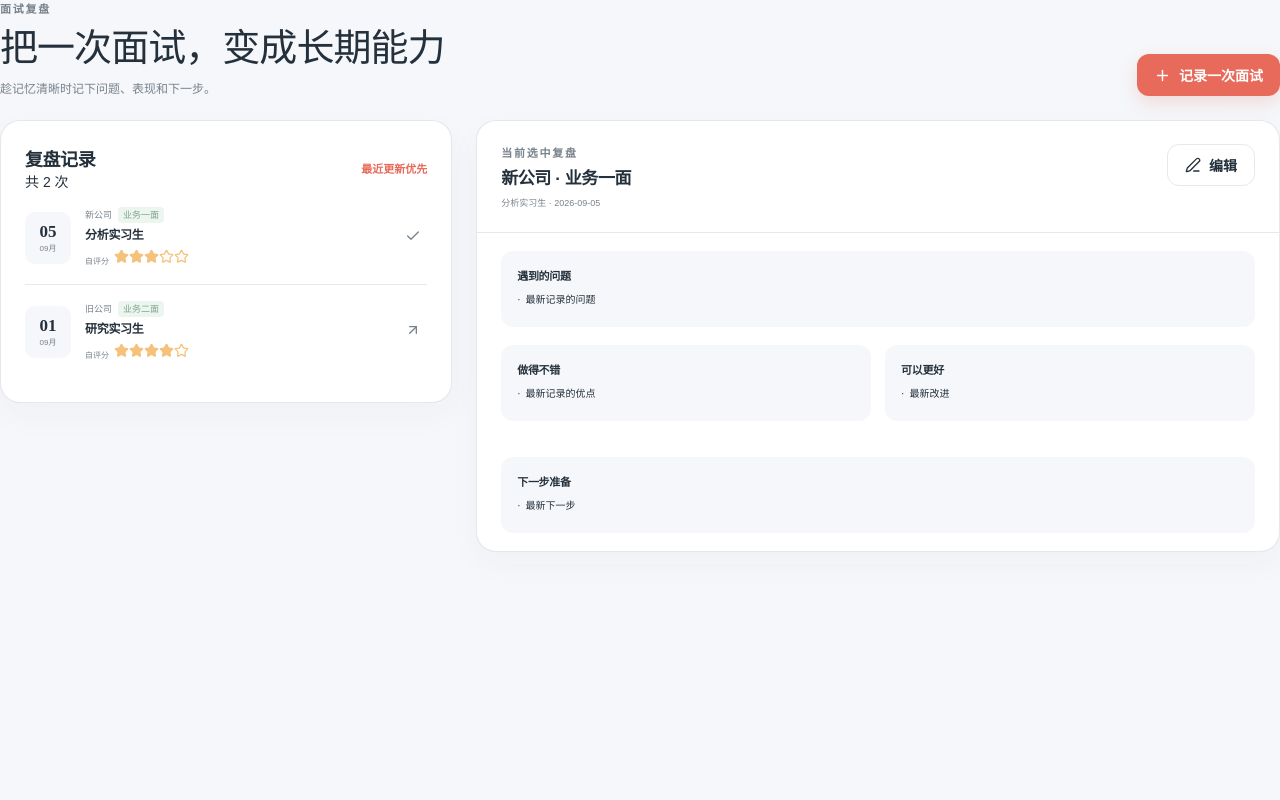
it: select and edit historical interview reviews › saves edits to the selected historical ID and keeps that record selected
Step 1. Click the button named "查看 旧公司" → point(413, 332), box [399,317,427,346]
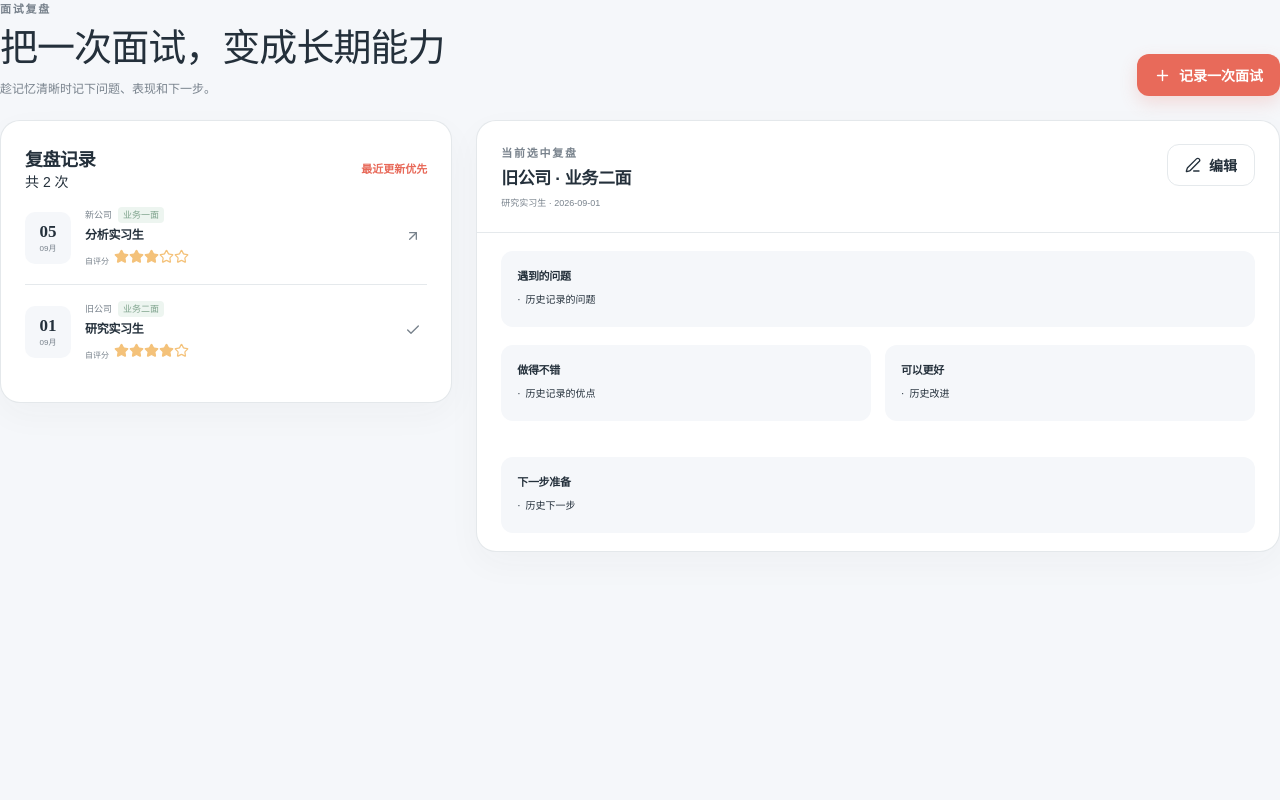
Step 2. Click the button "编辑" → point(1211, 165), box [1167,144,1255,186]
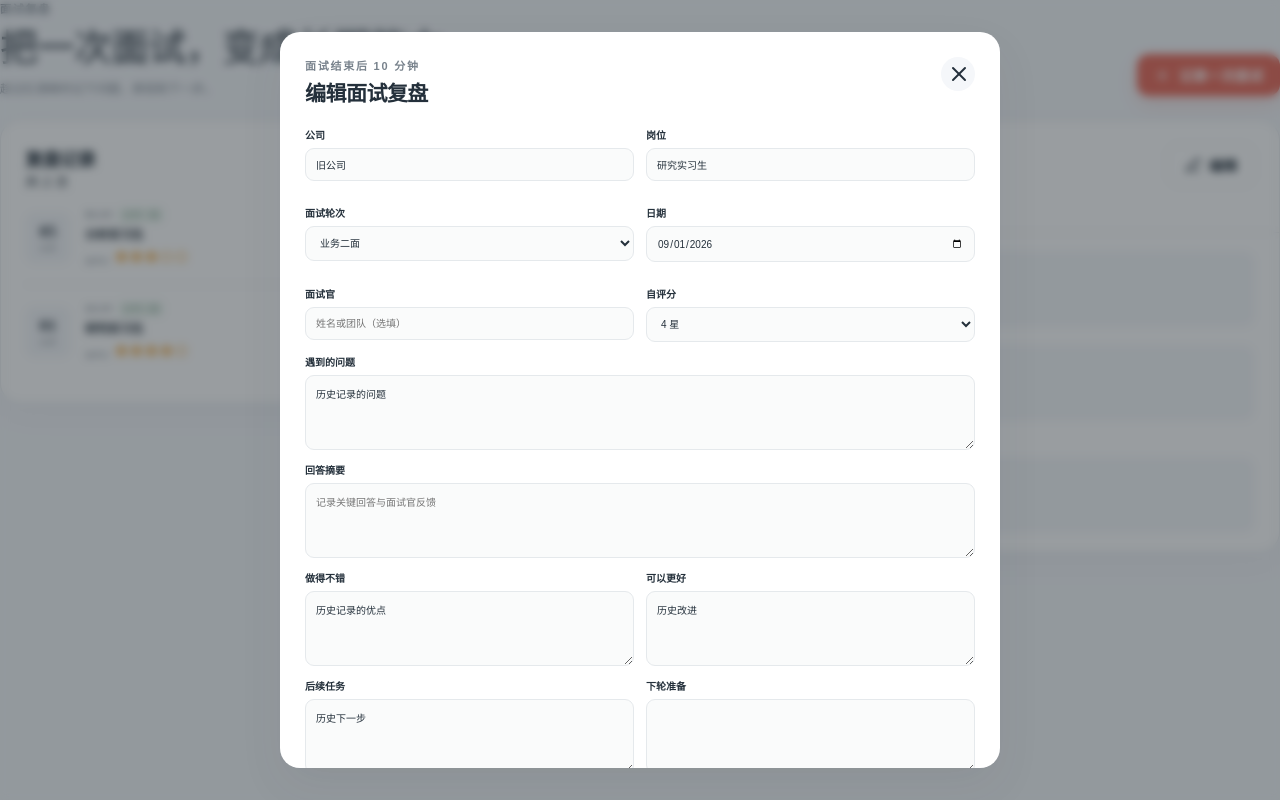
expect the field labelled "公司" holds "旧公司": met, box [305,148,634,181]
Step 3. Replace the text in the text box labelled "遇到的问题" with "补充历史面试问题" → point(640, 412), box [305,375,975,450]
(page scrolled)
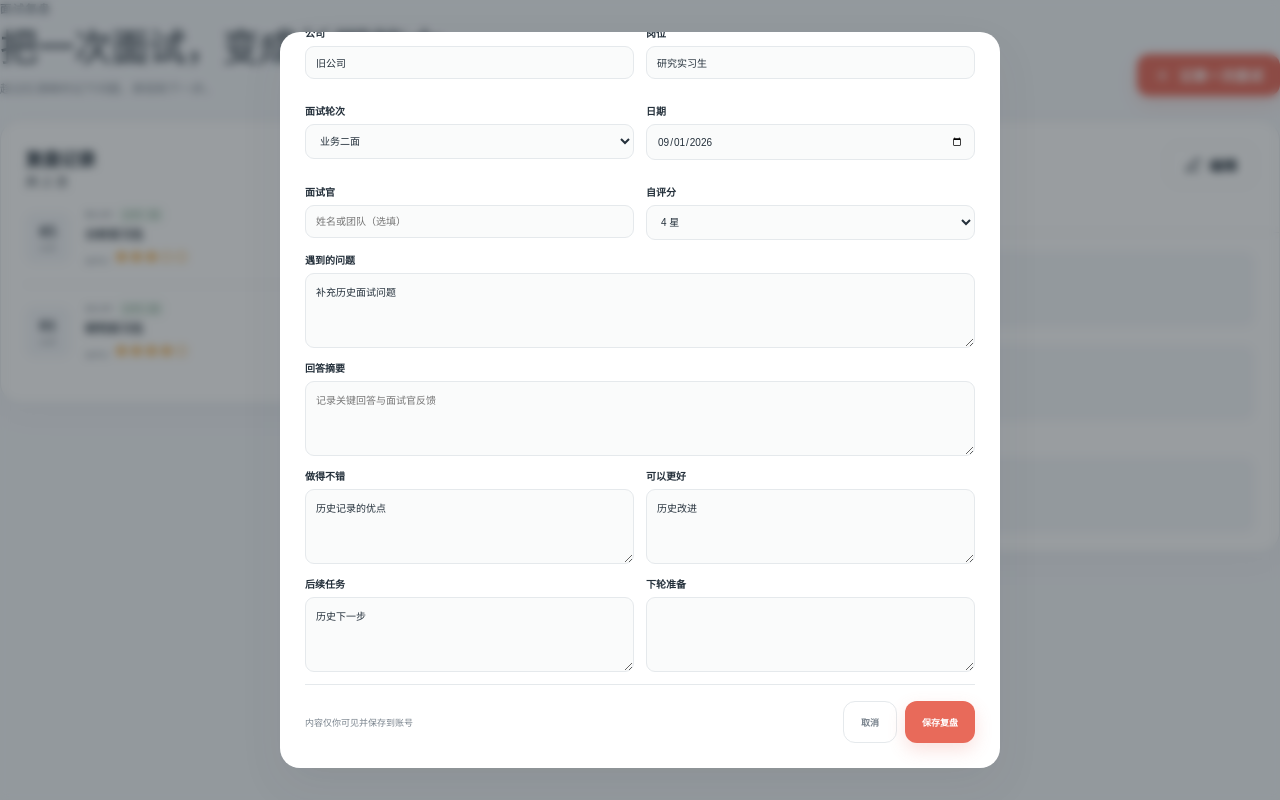
Step 4. Click the button "保存复盘" → point(940, 722), box [905,701,975,743]
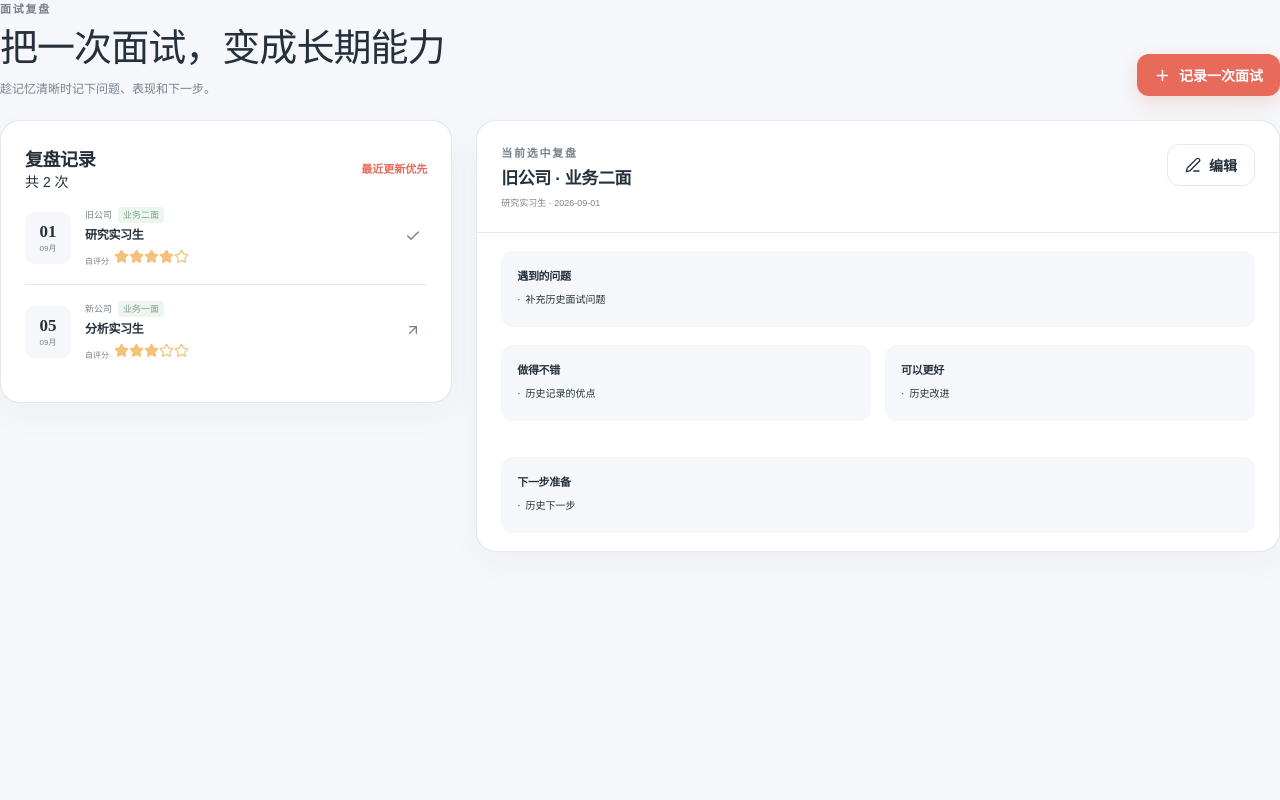
expect the dialog is gone: met
expect the text "补充历史面试问题" is shown: met, box [526,294,606,305]
